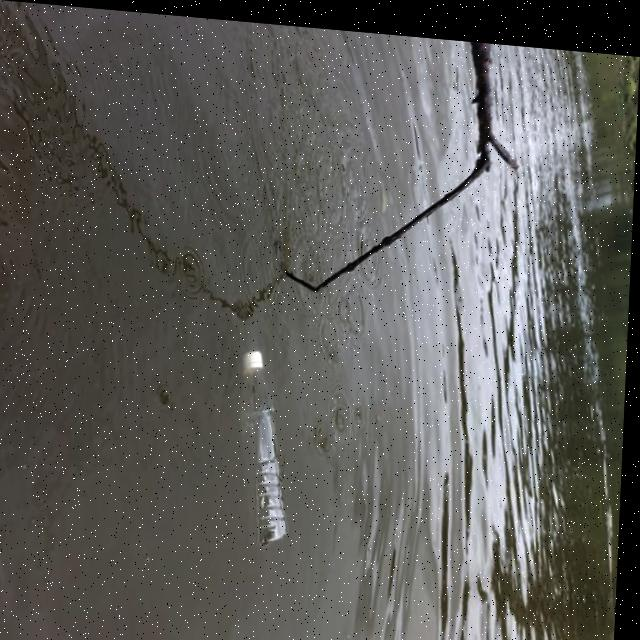waterbottle: (225, 326, 302, 543)
